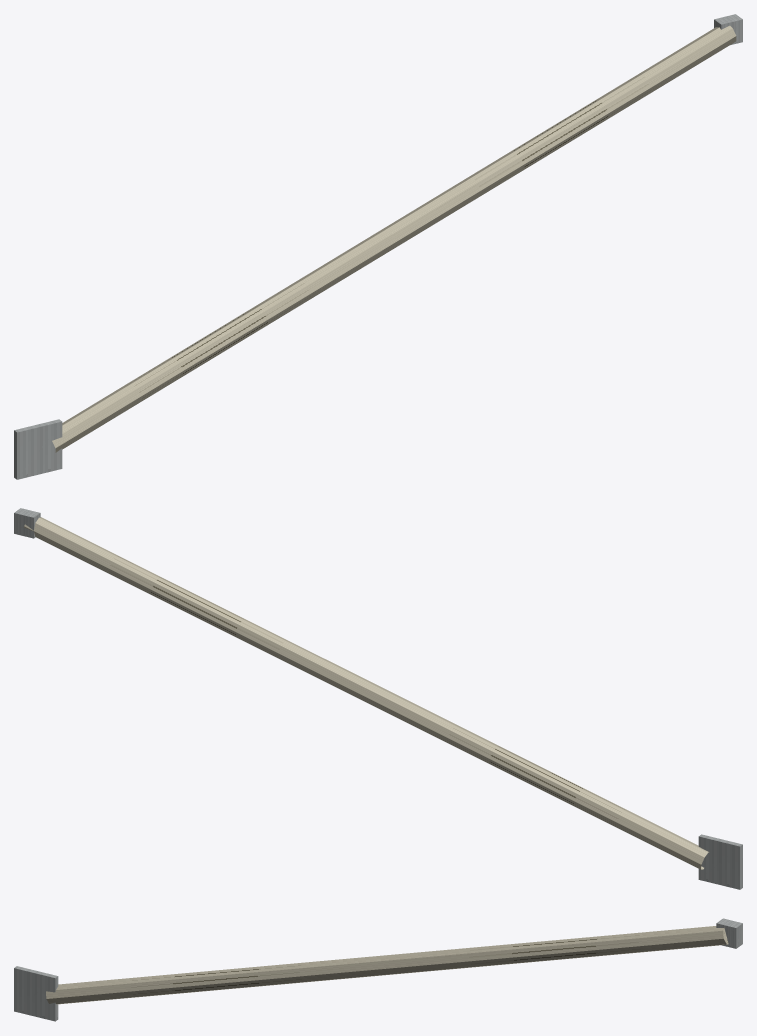
File: brace_r.obj
3 views of the same model, one above another, from view 1: azimuth 30°, elevation 25°; view 2: azimuth 150°, elevation 25°; view 3: azimuth 330°, elevation 25° (orthographic). The views are drawn at different scales.
Parts seen in each view (by area): view 1: crossarm_alley_fiberglass_7_r; view 2: crossarm_alley_fiberglass_7_r; view 3: crossarm_alley_fiberglass_7_r.
Boxes of the visible parts, box(x1,y1,x2,y2) form: crossarm_alley_fiberglass_7_r: box(14, 14, 742, 479); crossarm_alley_fiberglass_7_r: box(14, 508, 742, 889); crossarm_alley_fiberglass_7_r: box(14, 918, 742, 1021).
Bounding box in the file's own units: 5.23 × 1.67 × 0.4872.
